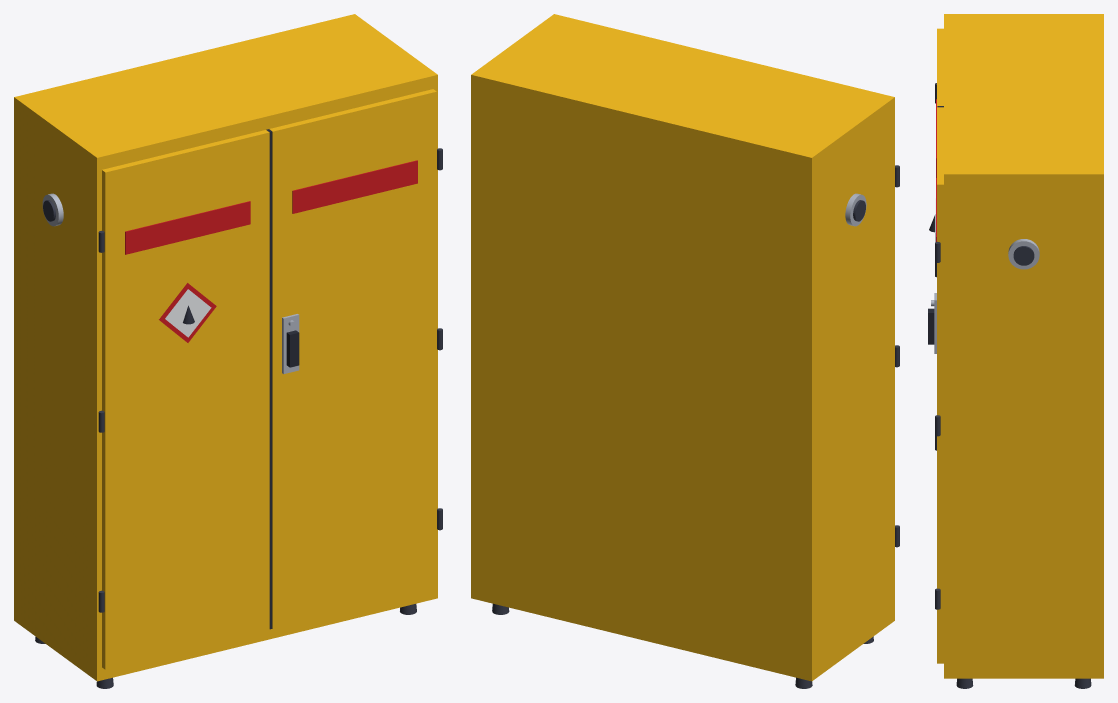
File: sch-017.glb
The picture shows the model from 3 angles, left to right: view 1: azimuth 30°, elevation 25°; view 2: azimuth 150°, elevation 25°; view 3: azimuth 270°, elevation 25°; orthographic projection. The views are drawn at different scales.
Parts seen in each view (by area): view 1: safety_yellow, accent_red, plastic_dark, dark_steel, white, steel; view 2: safety_yellow, dark_steel; view 3: safety_yellow, dark_steel, steel, plastic_dark.
Part boxes in pixels (left/top/right/bottom): safety_yellow: left=14, top=14, right=437, bottom=681; accent_red: left=125, top=160, right=417, bottom=342; plastic_dark: left=183, top=129, right=299, bottom=629; dark_steel: left=35, top=148, right=442, bottom=688; white: left=165, top=289, right=211, bottom=337; steel: left=42, top=193, right=299, bottom=374; safety_yellow: left=471, top=14, right=894, bottom=681; dark_steel: left=492, top=165, right=899, bottom=688; safety_yellow: left=937, top=14, right=1103, bottom=678; dark_steel: left=935, top=83, right=1091, bottom=688; steel: left=931, top=239, right=1039, bottom=353; plastic_dark: left=928, top=106, right=943, bottom=344.
Size of the model in its own units: 1.14 by 1.65 by 0.506.
